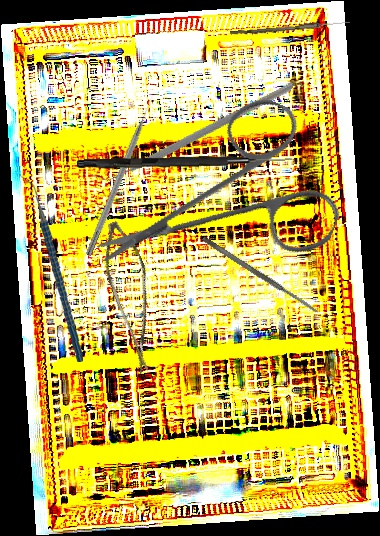Chopper: (90, 18, 295, 242), (7, 174, 96, 362)
Hook Surgical: (84, 94, 158, 257), (76, 152, 293, 171)
Iris Scissors: (93, 60, 370, 337)
Micro Scissor: (81, 217, 184, 375)
Spatula Surgical: (201, 235, 320, 316)
Surgical Spoon: (230, 18, 350, 38)
